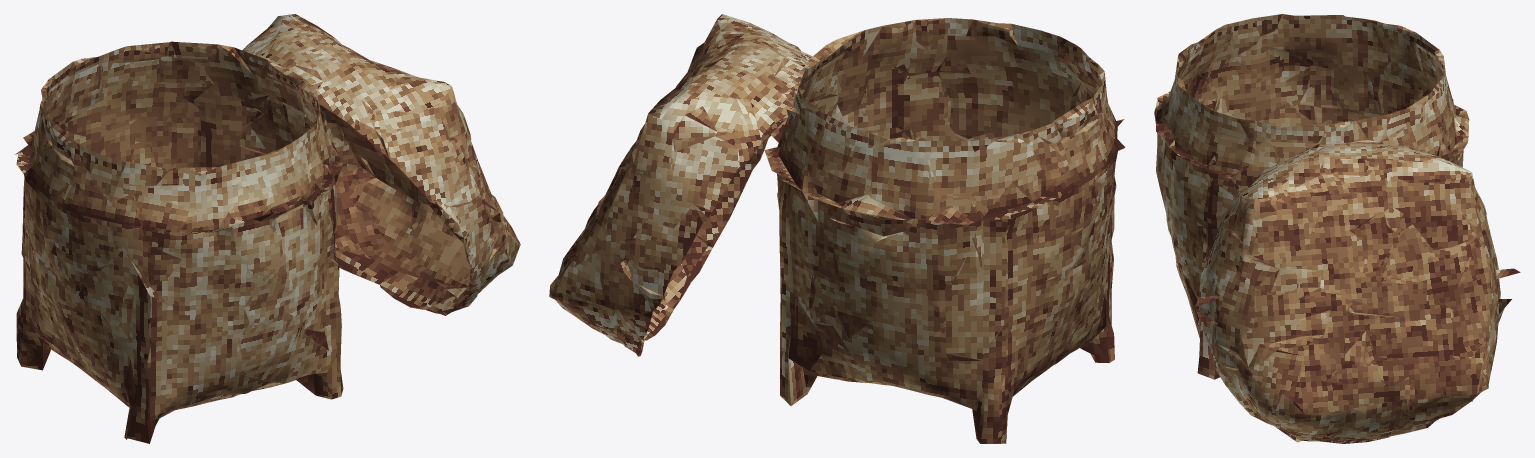
Rendered from wicker_basket_02.glb.
3 renders of one model, left to right at view 1: azimuth 30°, elevation 25°; view 2: azimuth 150°, elevation 25°; view 3: azimuth 270°, elevation 25°, orthographic. The views are drawn at different scales.
Visible parts, largest first — view 1: body; view 2: body; view 3: body.
Boxes of the visible parts, x1,y1,x2,y2 form: body: [15, 14, 520, 443]; body: [549, 14, 1125, 443]; body: [1154, 14, 1520, 443].
Size of the model in its own units: 0.3411 by 0.2005 by 0.2514.
Materials: 1 (1 with a texture image).
